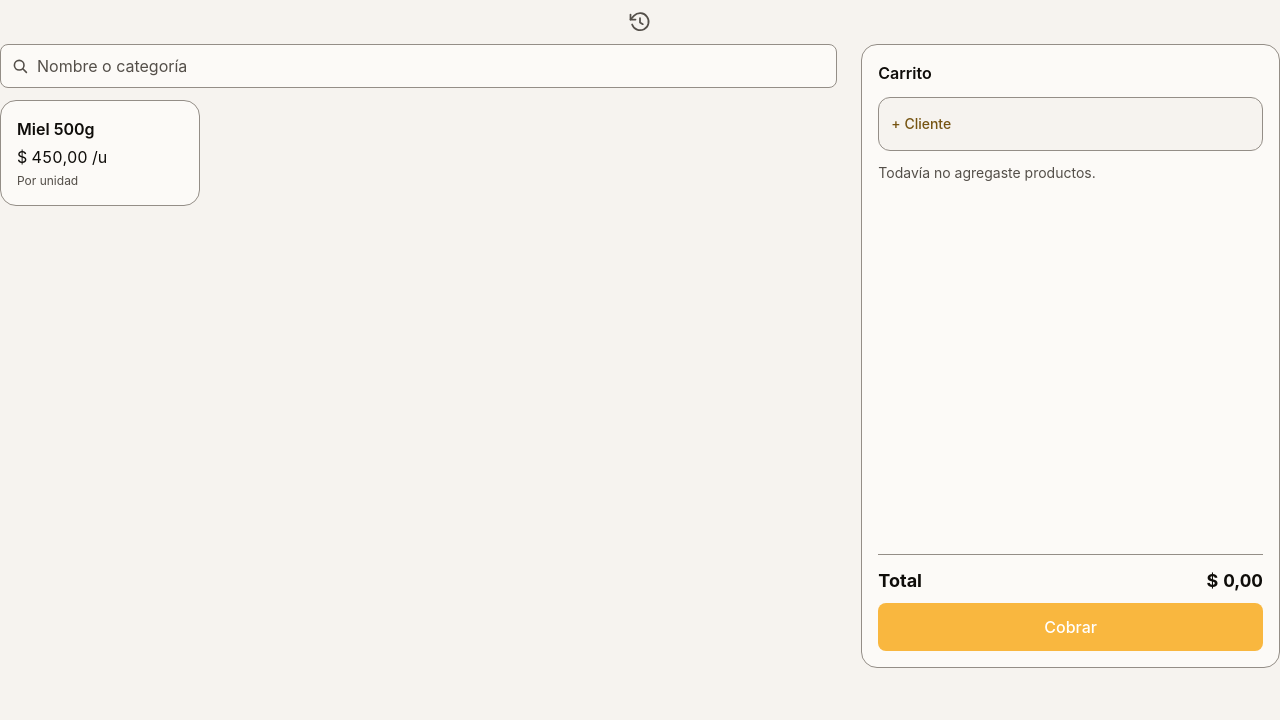
Venta - cobro › cobro offline: no espera el ack, vacía el carrito y avisa con un toast info
Step 1. Click the text "Miel 500g" → (56, 129), box [17,117,94,141]
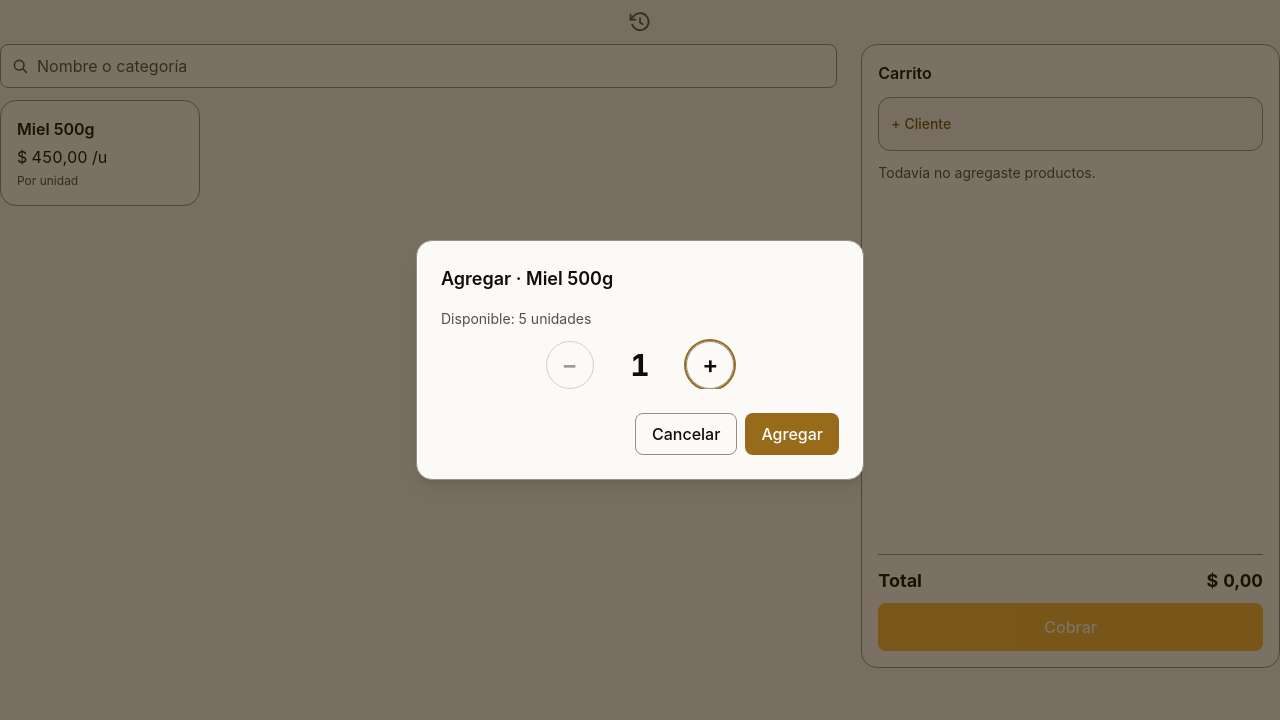
Step 2. Click the button "Agregar" → (792, 434), box [745,413,839,455]
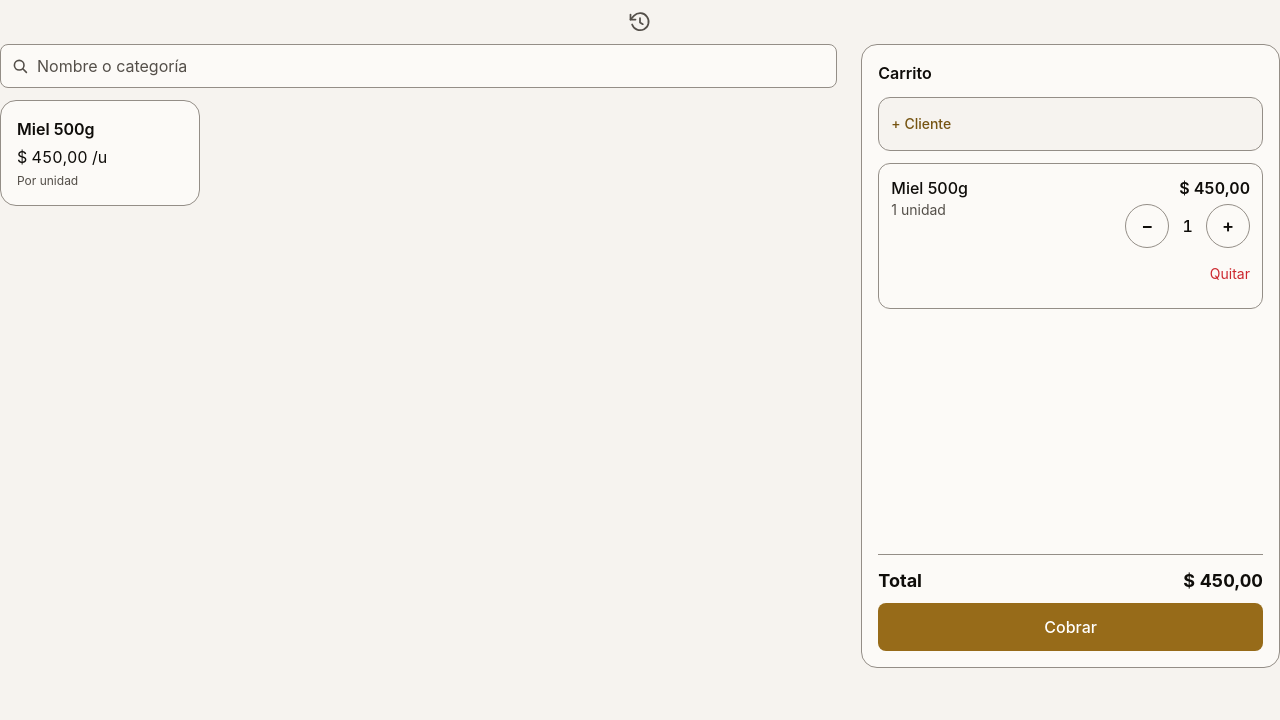
Step 3. Click the button "Cobrar" → (1071, 627), box [878,603,1263,651]
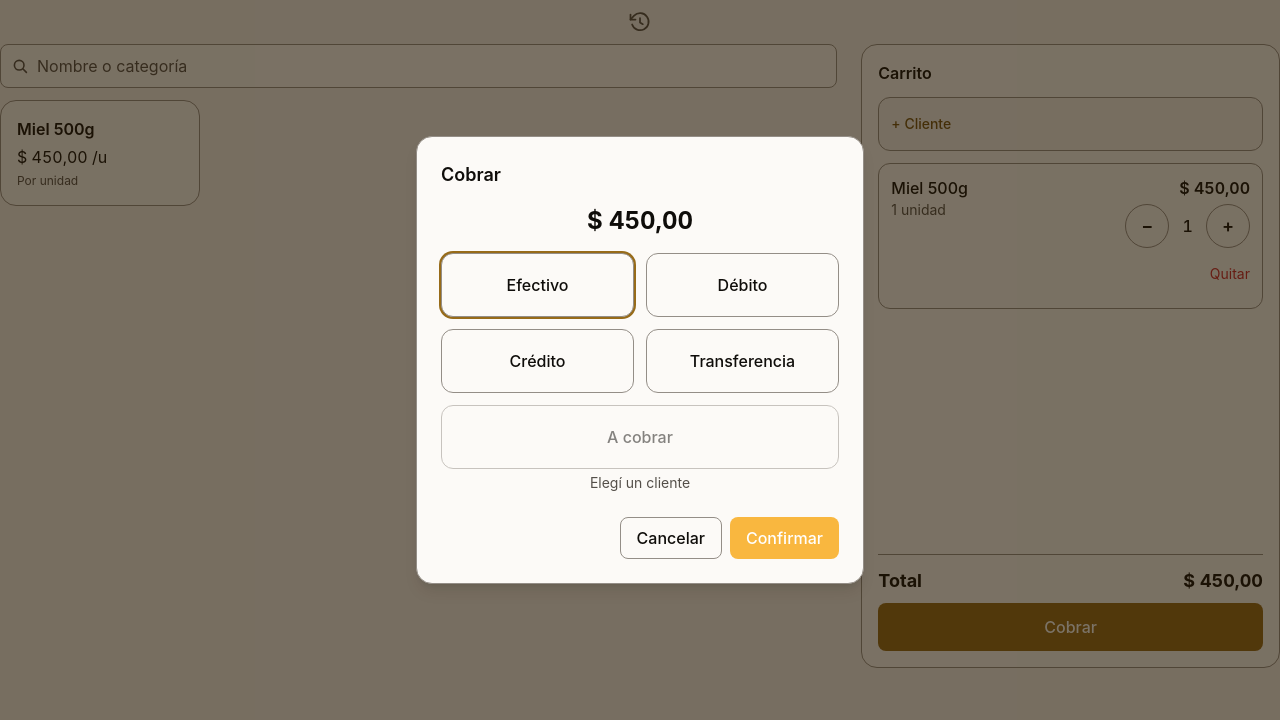
Step 4. Click the button "Efectivo" → (538, 285), box [441,253,634,317]
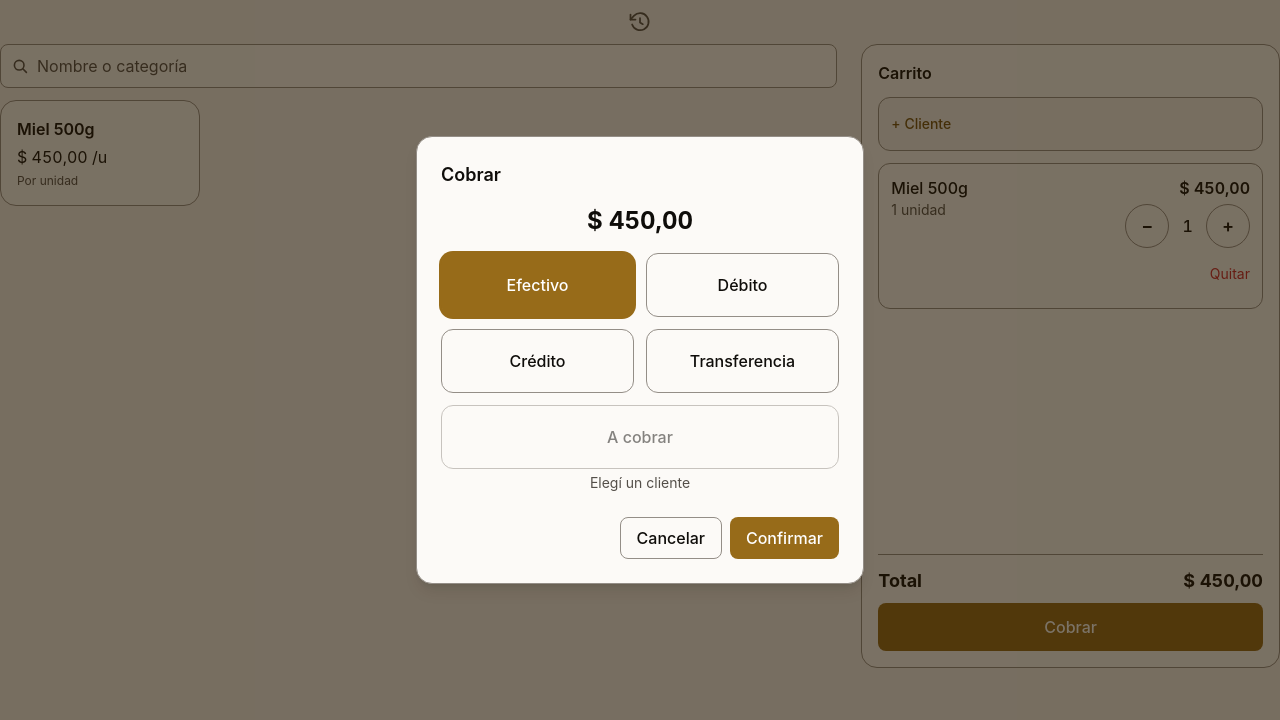
Step 5. Click the button "Confirmar" → (784, 538), box [730,517,839,559]
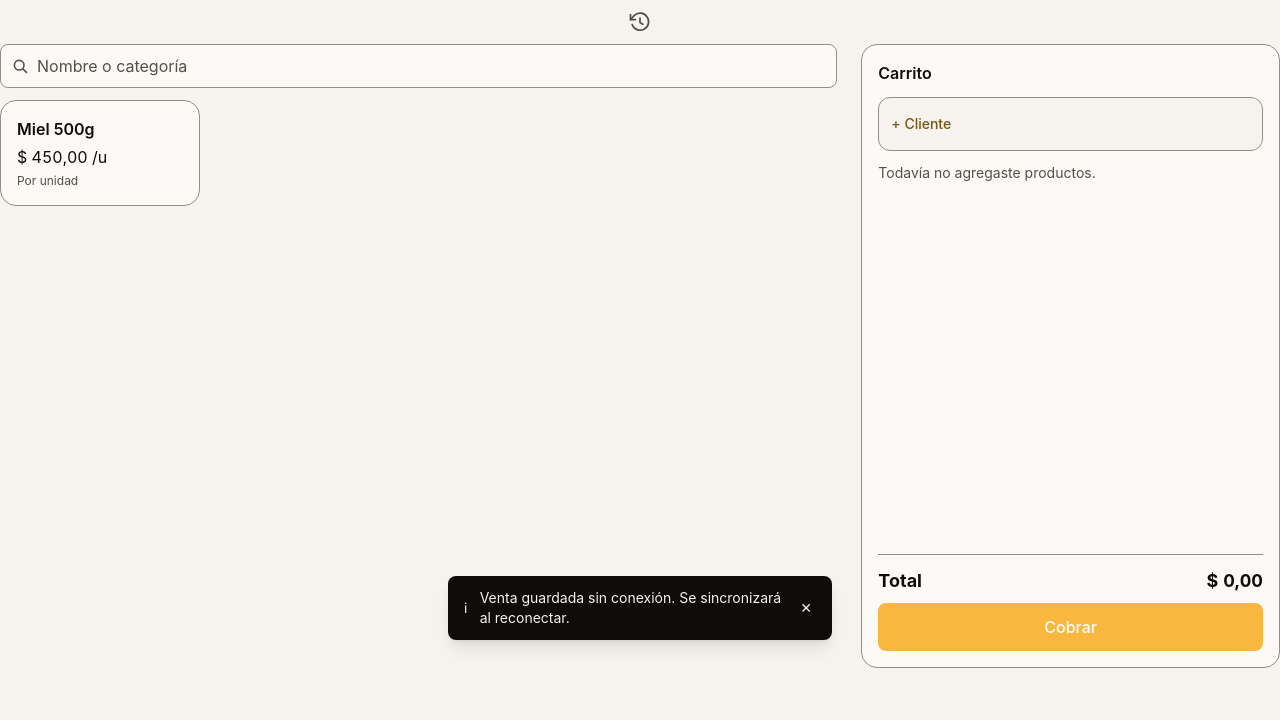
Now the text "Todavía no agregaste productos." is shown, box [878,164,1096,181]
Now the text "Venta guardada sin conexión. Se sincronizará al reconectar." is shown, box [480,588,784,628]
